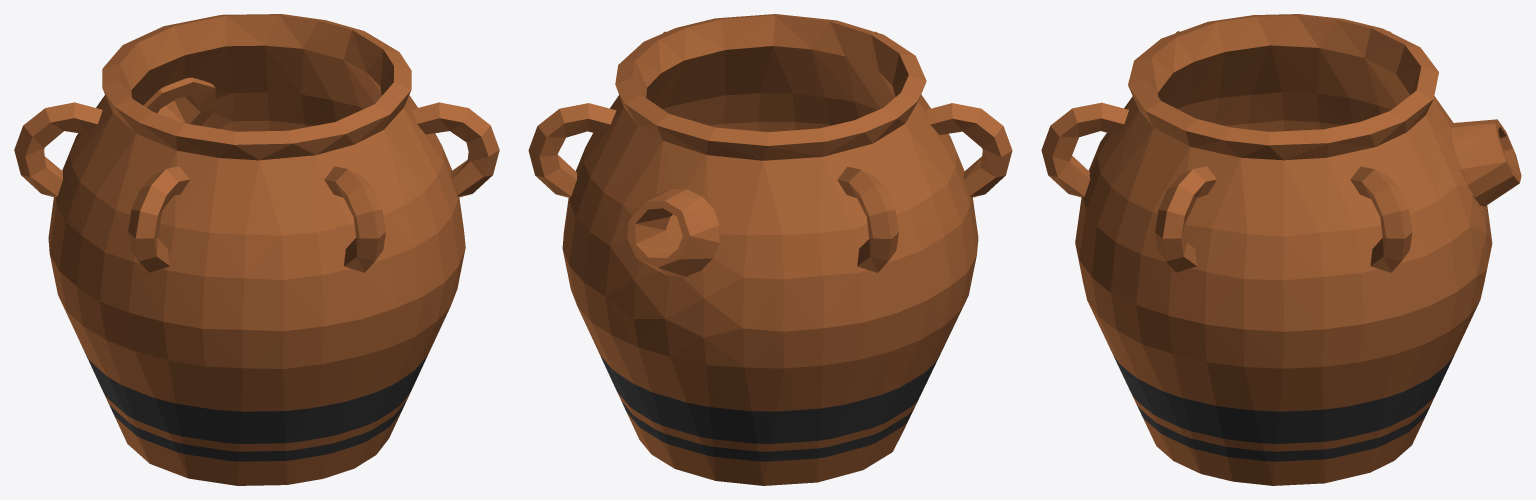
File: Pottery 9_3.fbx
3 views of the same model, side by side, from view 1: azimuth 30°, elevation 25°; view 2: azimuth 150°, elevation 25°; view 3: azimuth 270°, elevation 25° (orthographic).
Visible parts, largest first — view 1: Pottery 9_3; view 2: Pottery 9_3; view 3: Pottery 9_3.
Boxes of the visible parts, x1,y1,x2,y2 form: Pottery 9_3: (14, 14, 499, 485); Pottery 9_3: (528, 14, 1012, 485); Pottery 9_3: (1041, 14, 1521, 485).
Size of the model in its own units: 88.77 by 83.24 by 102.
